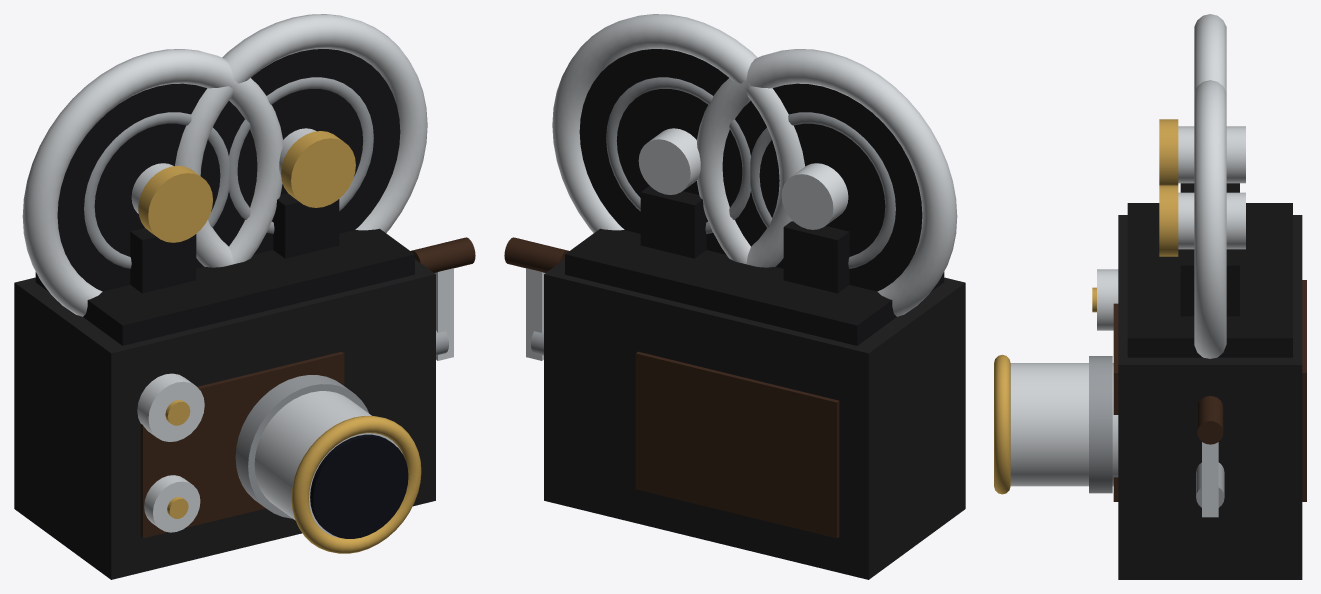
The model's file is cinemacamera.glb.
3 renders of one model, left to right at view 1: azimuth 30°, elevation 25°; view 2: azimuth 150°, elevation 25°; view 3: azimuth 270°, elevation 25°, orthographic. The views are drawn at different scales.
Parts seen in each view (by area): view 1: camera_body, reel_front_rim, top_plate, reel_front_plate, reel_back_rim, reel_back_plate, leather_panel_0, lens_glass, lens_barrel, lens_ring, reel_back_cap, reel_front_cap (+9 smaller); view 2: camera_body, leather_panel_1, reel_front_rim, reel_front_plate, top_plate, reel_back_plate, reel_back_rim, reel_neck_0, reel_neck_1, reel_front_rim2, reel_back_rim2, reel_front_hub (+3 smaller); view 3: camera_body, top_plate, lens_barrel, reel_back_rim, lens_collar, lens_ring, reel_front_rim, reel_front_hub, reel_back_hub, reel_neck_1, reel_back_cap, reel_front_cap (+6 smaller).
Boxes of the visible parts, x1,y1,x2,y2 form: camera_body: (14, 259, 435, 579); reel_front_rim: (22, 49, 283, 316); top_plate: (35, 228, 414, 345); reel_front_plate: (57, 83, 257, 291); reel_back_rim: (175, 14, 427, 267); reel_back_plate: (201, 49, 400, 254); leather_panel_0: (140, 351, 344, 538); lens_glass: (310, 434, 408, 538); lens_barrel: (254, 391, 402, 538); lens_ring: (291, 416, 421, 553); reel_back_cap: (281, 131, 355, 207); reel_front_cap: (138, 165, 212, 242); camera_body: (544, 259, 965, 579); leather_panel_1: (635, 351, 839, 538); reel_front_rim: (696, 49, 957, 316); reel_front_plate: (722, 83, 922, 291); top_plate: (565, 228, 944, 345); reel_back_plate: (579, 49, 779, 254); reel_back_rim: (552, 14, 805, 267); reel_neck_0: (783, 221, 849, 293); reel_neck_1: (640, 186, 706, 258); reel_front_rim2: (750, 112, 895, 268); reel_back_rim2: (606, 77, 750, 233); reel_front_hub: (781, 163, 848, 229); camera_body: (1118, 215, 1302, 579); top_plate: (1127, 203, 1292, 357); lens_barrel: (1010, 363, 1118, 486); reel_back_rim: (1194, 80, 1226, 358); lens_collar: (1089, 356, 1112, 493); lens_ring: (994, 354, 1010, 494); reel_front_rim: (1194, 14, 1226, 92); reel_front_hub: (1178, 126, 1245, 183); reel_back_hub: (1178, 192, 1245, 249); reel_neck_1: (1180, 249, 1239, 316); reel_back_cap: (1159, 185, 1178, 256); reel_front_cap: (1159, 119, 1178, 185).
Size of the model in its own units: 0.41 by 0.414 by 0.264.
